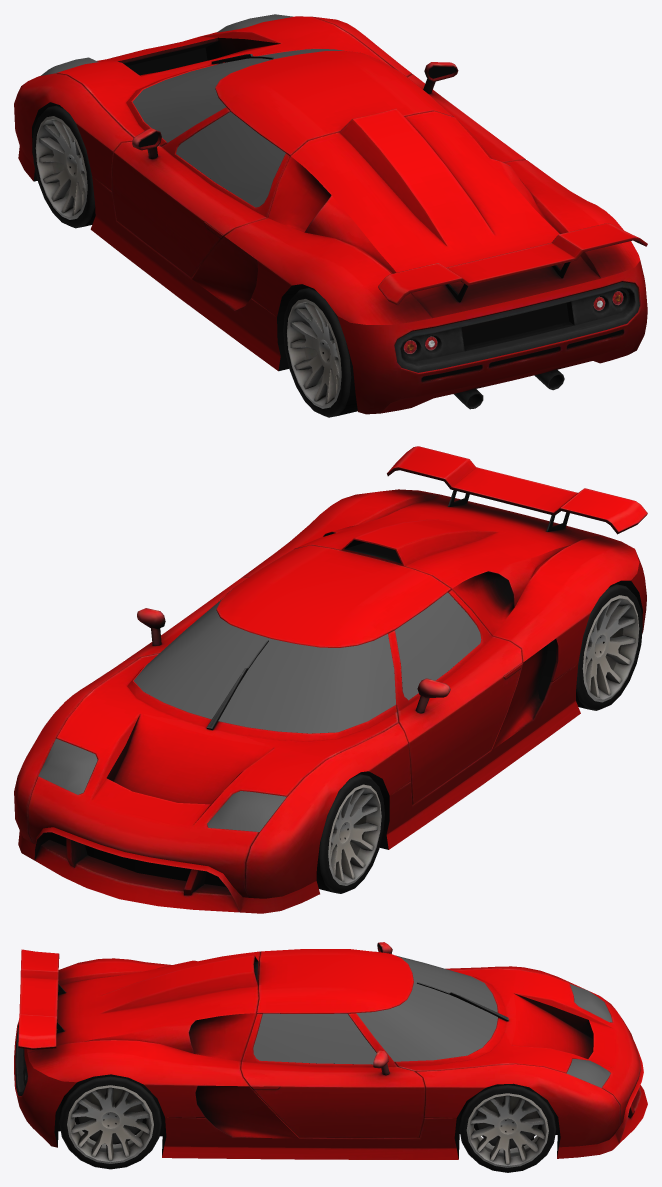
The model's file is pack_car8.glb.
3 renders of one model, top to bottom at view 1: azimuth 30°, elevation 25°; view 2: azimuth 150°, elevation 25°; view 3: azimuth 270°, elevation 25°, orthographic. The views are drawn at different scales.
Parts seen in each view (by area): view 1: Sport body, Wheel_H001, Wheel_H; view 2: Sport body, Wheel_H001, Wheel_H; view 3: Sport body, Wheel_H003, Wheel_H002.
Boxes of the visible parts, x1,y1,x2,y2 form: Sport body: (14,14,647,414); Wheel_H001: (283,287,357,417); Wheel_H: (32,104,95,228); Sport body: (14,446,647,913); Wheel_H001: (576,583,642,710); Wheel_H: (316,773,384,893); Sport body: (14,942,647,1159); Wheel_H003: (59,1074,162,1169); Wheel_H002: (459,1083,556,1172).
Size of the model in its own units: 1.99 by 1.17 by 4.4.
4 materials, 3 textured.
